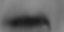LeftEyeFatigue: (2, 9, 54, 32)
